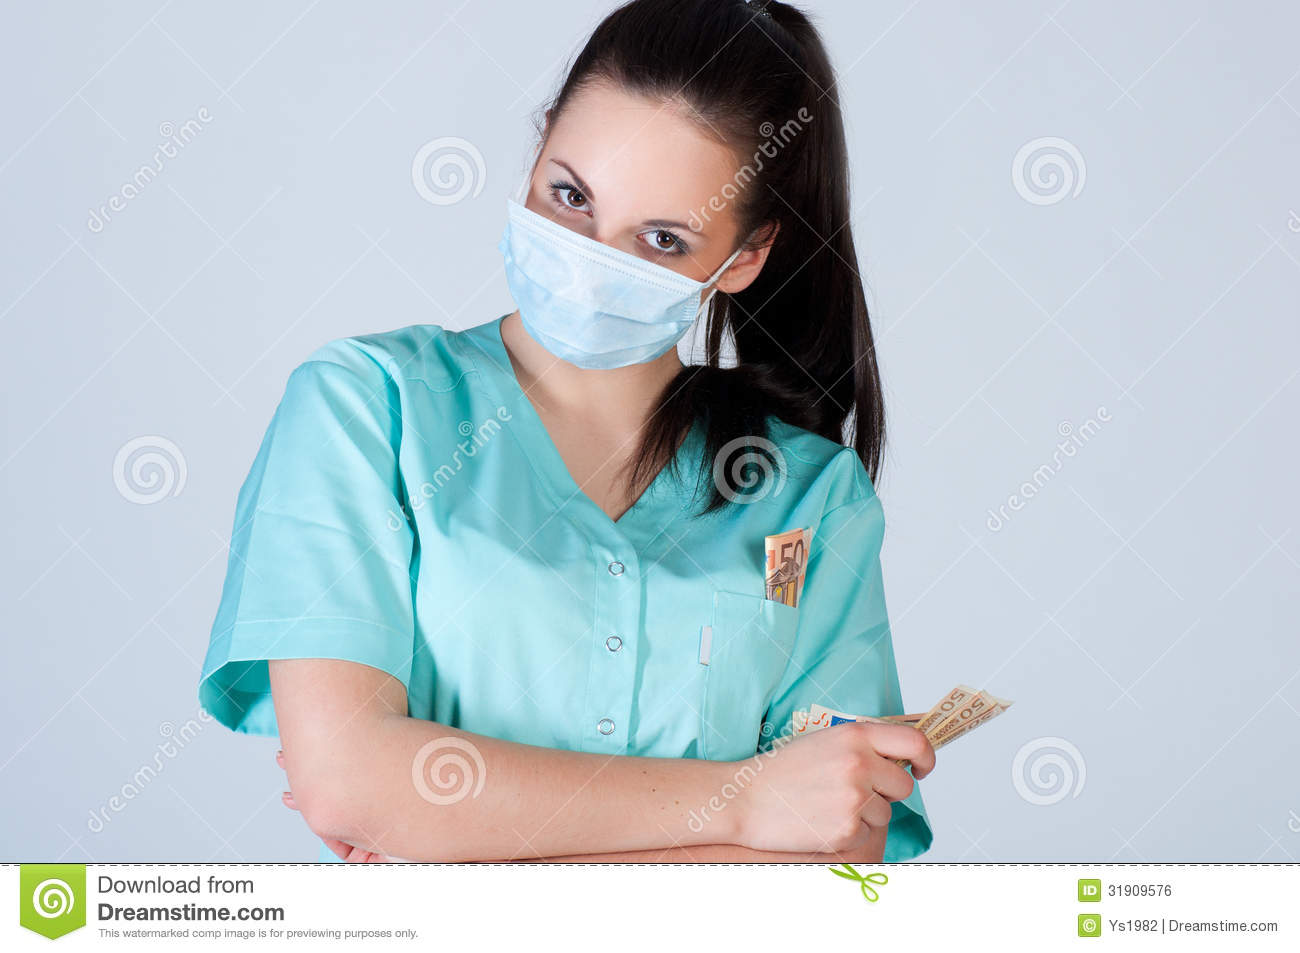mask: (476, 203, 698, 375)
